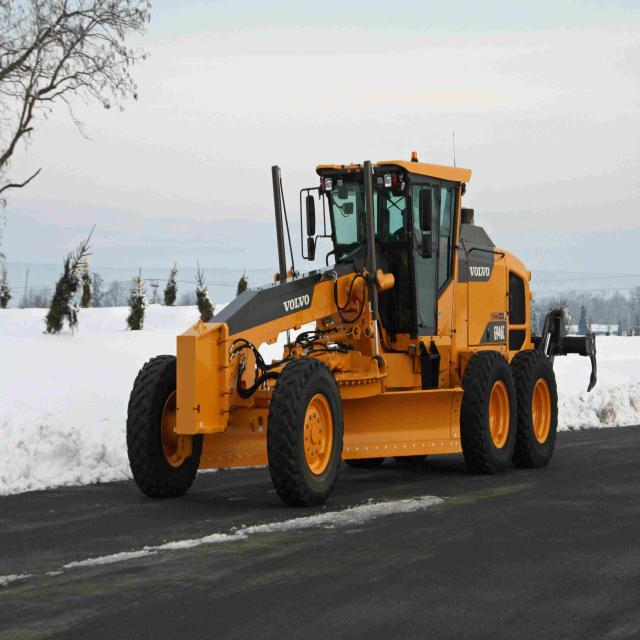bull_dozer/loader/grader: (118, 144, 575, 517)
